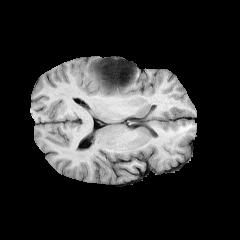glioma: (89, 57, 136, 94)
